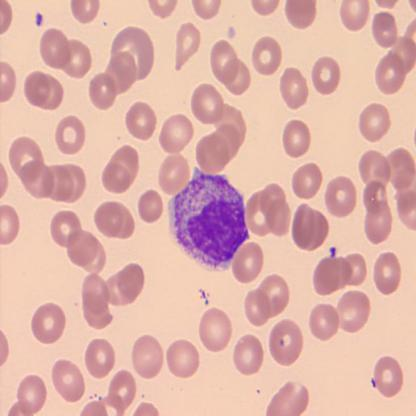Metamyelocyte: (166, 164, 253, 273)
